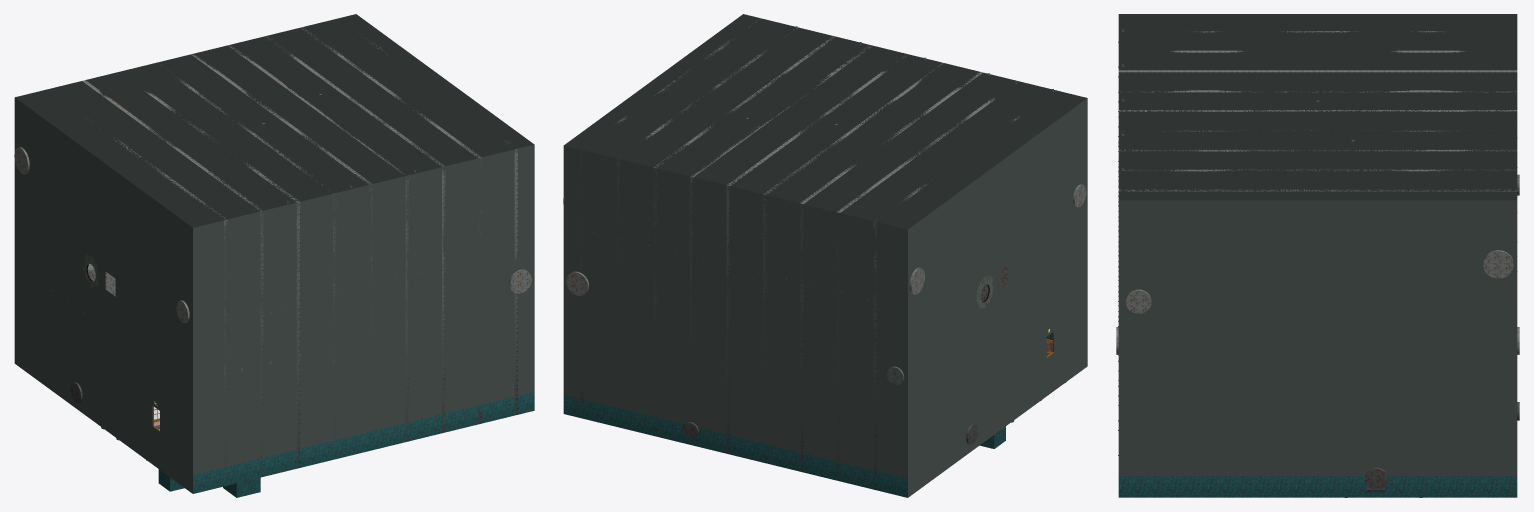
The model's file is inseguimento_struttura.glb.
3 renders of one model, left to right at view 1: azimuth 30°, elevation 25°; view 2: azimuth 150°, elevation 25°; view 3: azimuth 270°, elevation 25°, orthographic. The views are drawn at different scales.
Parts seen in each view (by area): view 1: ins_A_struttura-col; view 2: ins_A_struttura-col; view 3: ins_A_struttura-col.
Boxes of the visible parts, x1,y1,x2,y2 form: ins_A_struttura-col: (14, 14, 534, 497); ins_A_struttura-col: (563, 14, 1087, 497); ins_A_struttura-col: (1116, 14, 1519, 497).
Bounding box in the file's own units: 38.3 × 34.9 × 34.4.
Materials: 18 (12 with a texture image).
